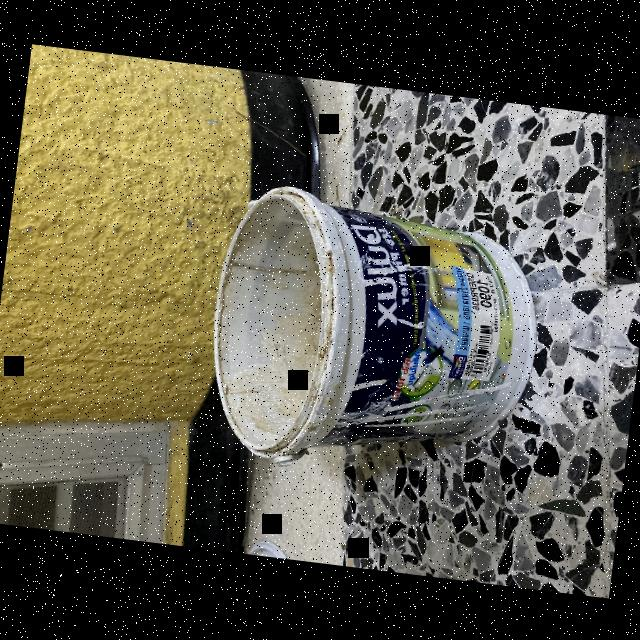paint_bucket: (197, 175, 548, 490)
